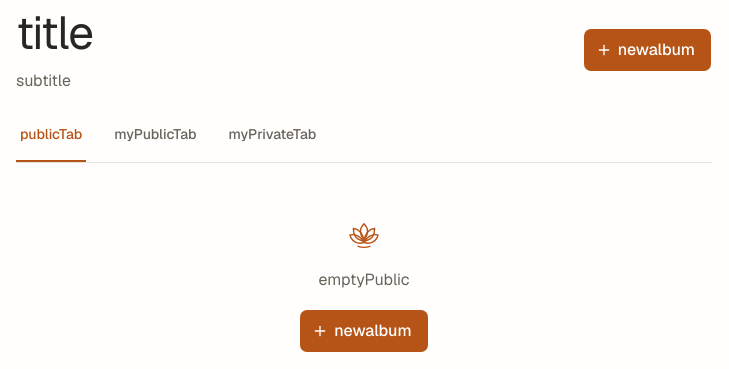
Test case: gallery personal-tab pagination › keeps the sentinel mounted when the loaded page has opposite visibility (myPublicTab)
The image size is (729, 369).
Click the tab "myPublicTab" at (155, 140), box [110,118,201,162]
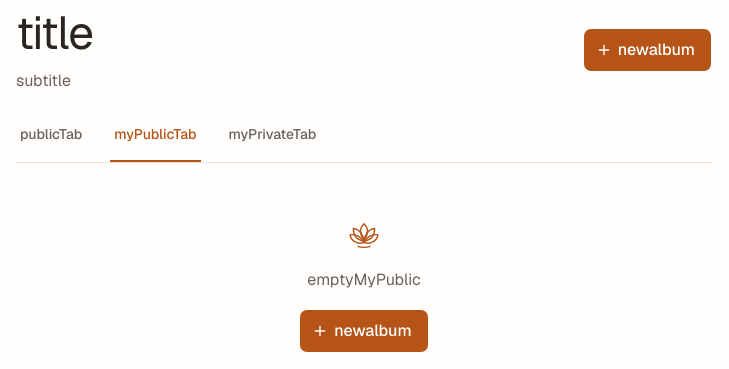
Expected: the text "emptyMyPublic" is shown, [307,266,421,292]
